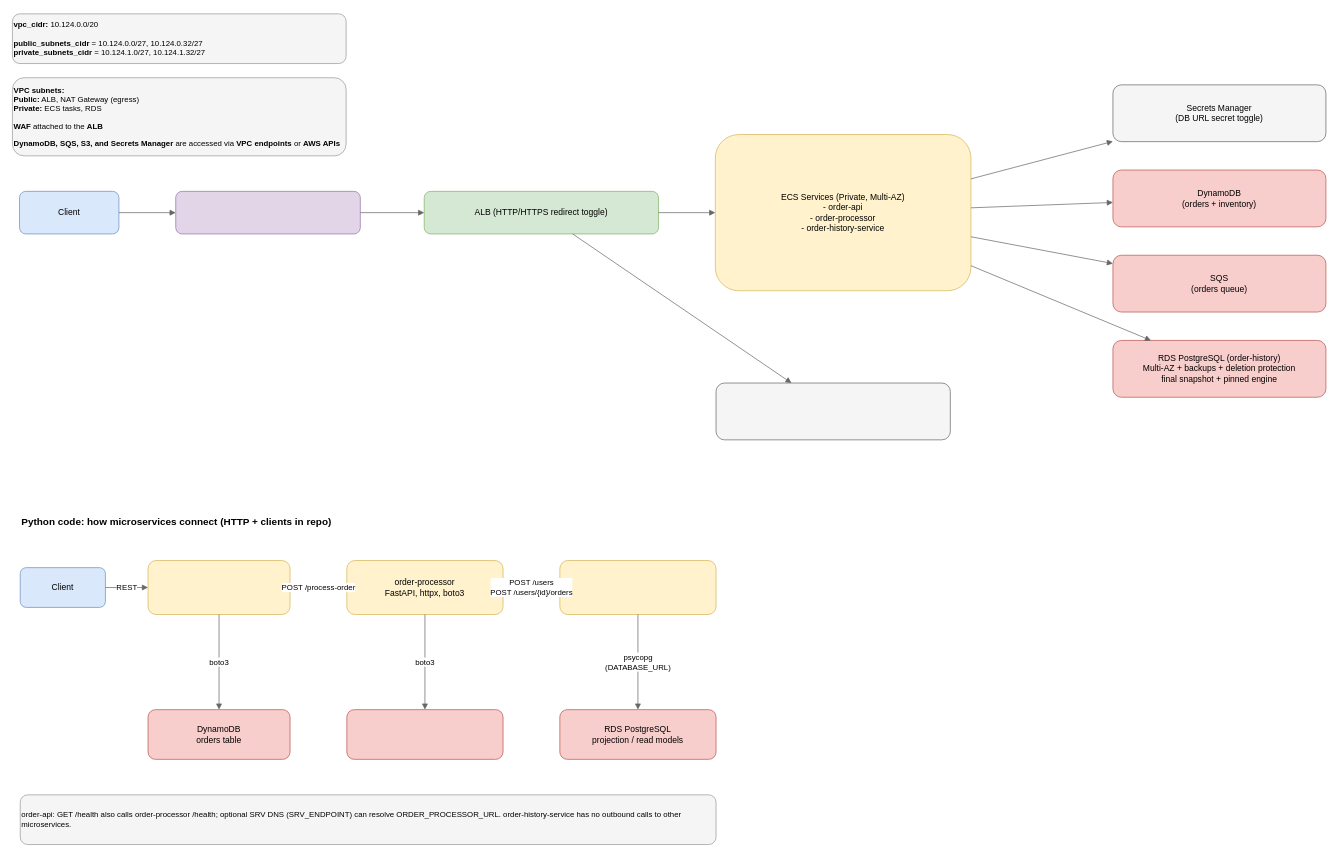
Image size: 1338x857. Some labels were removed from this diagram. Here are the shapes that lost their labels. From the top down, the box of each, then its label:
(175, 191, 360, 234): AWS WAF (optional toggle)
(715, 382, 950, 440): S3 ALB Access Logs (encrypted + lifecycle)
(147, 560, 290, 615): order-api FastAPI, httpx, boto3
(559, 560, 716, 615): order-history-service FastAPI, psycopg
(346, 709, 503, 759): DynamoDB inventory table
